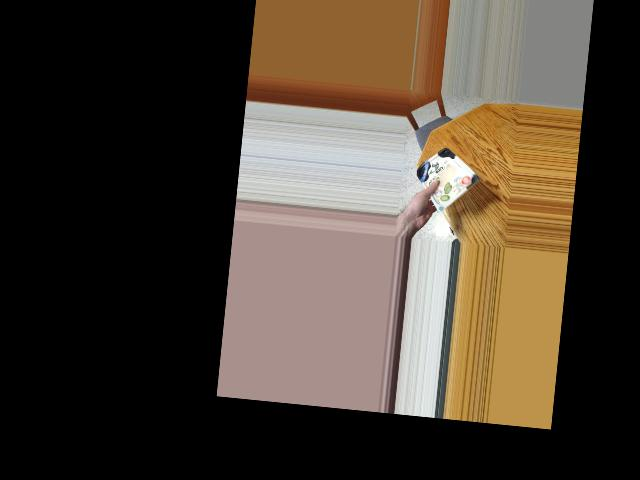cheese: (413, 150, 473, 203)
